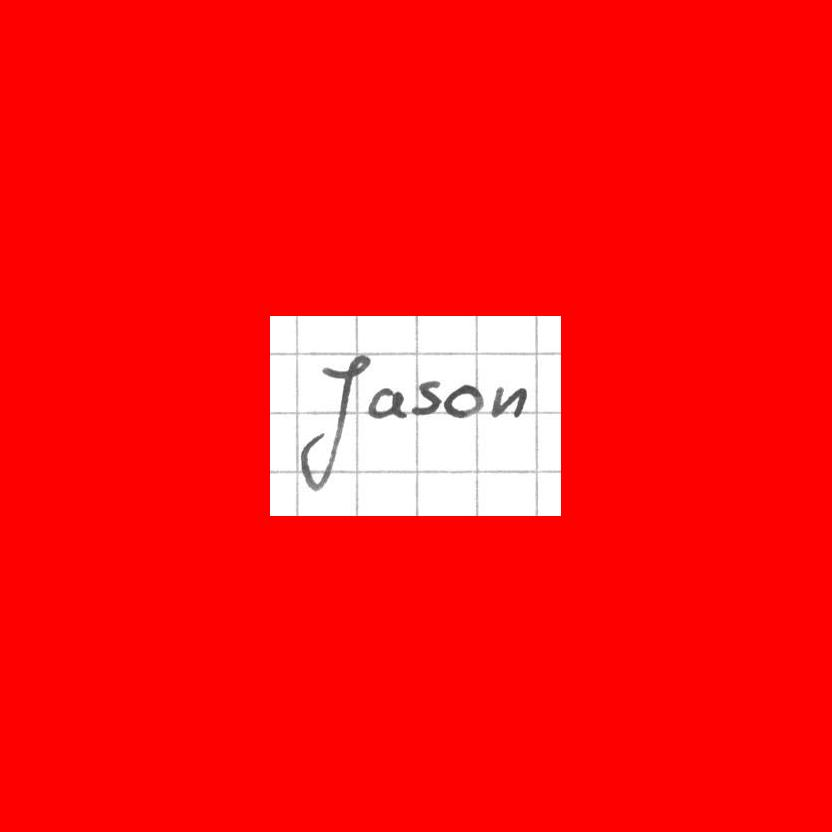Char: (296, 350, 371, 495), (364, 382, 408, 421), (441, 381, 485, 418), (487, 382, 527, 420), (408, 378, 442, 418)
